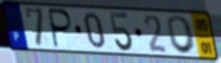0: (82, 11, 108, 50)
2: (144, 14, 168, 54)
5: (107, 10, 134, 53)
7: (23, 6, 47, 49)
O: (166, 15, 199, 56)
P: (48, 7, 75, 50)
